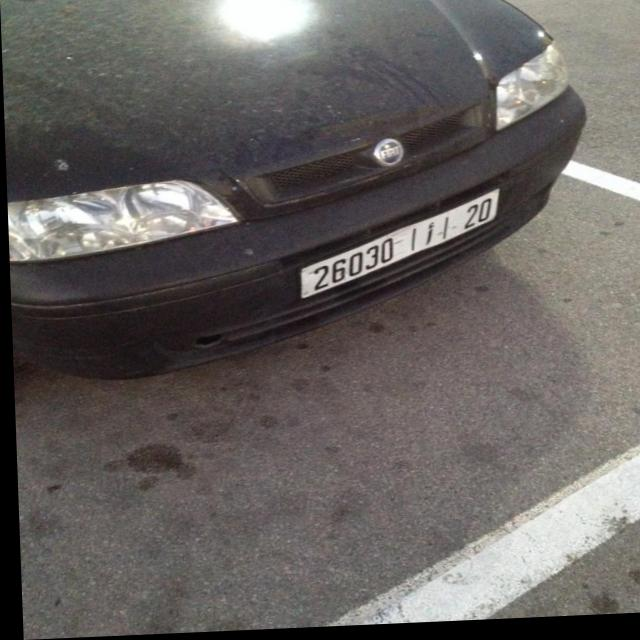License-Plate: (298, 194, 498, 300)
